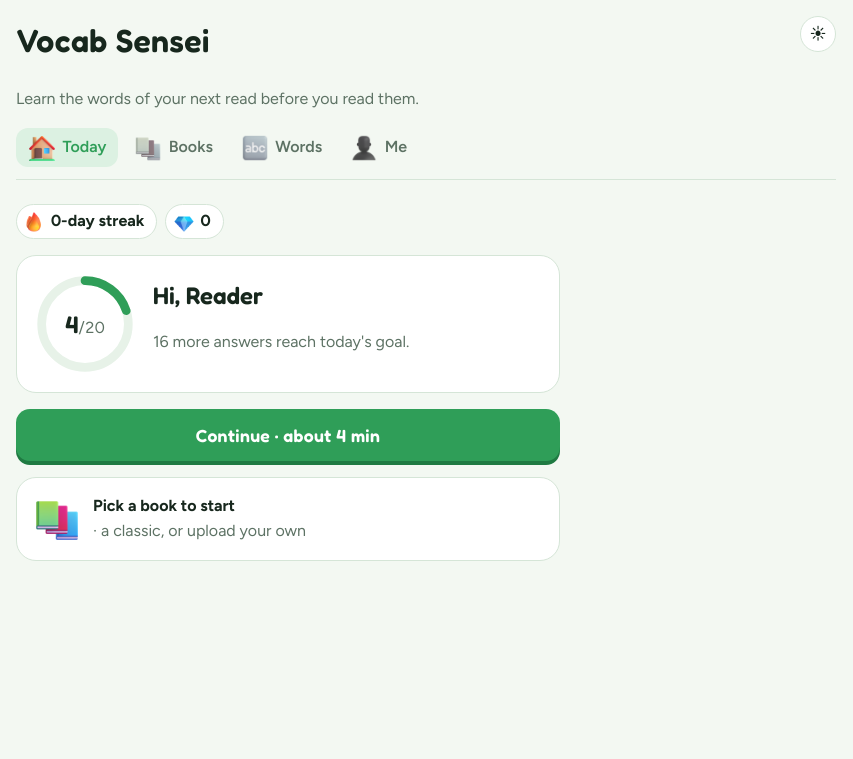
Scenario: daily reminder settings › is reached from the Me tab
Click the link "Me".
click(379, 148)  # box [350,134,407,162]
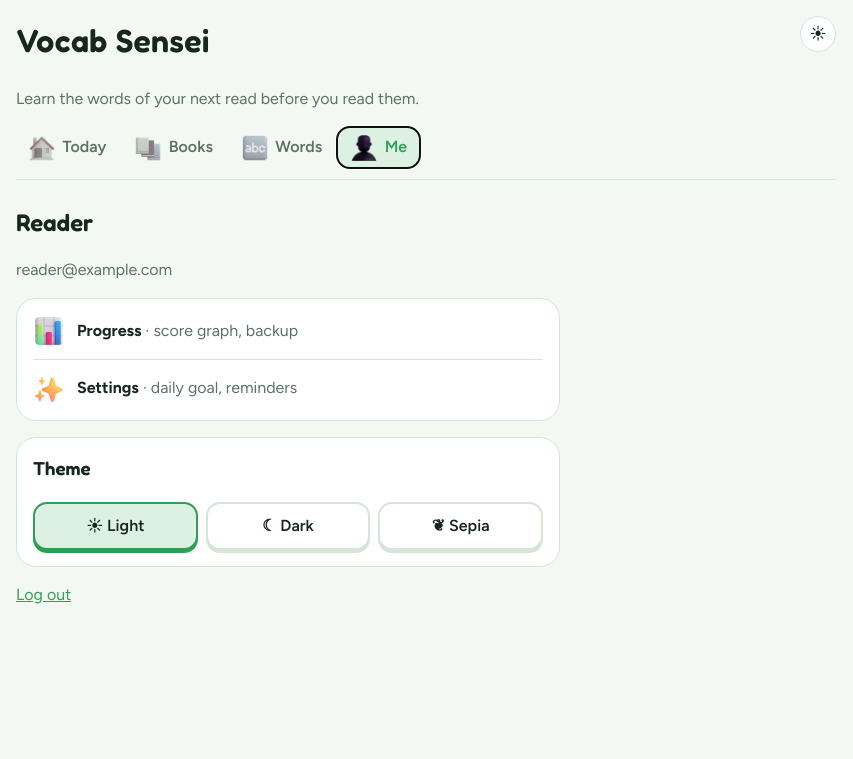
Click the link "Settings · daily goal, reminders".
click(288, 388)  # box [33,359,543,416]
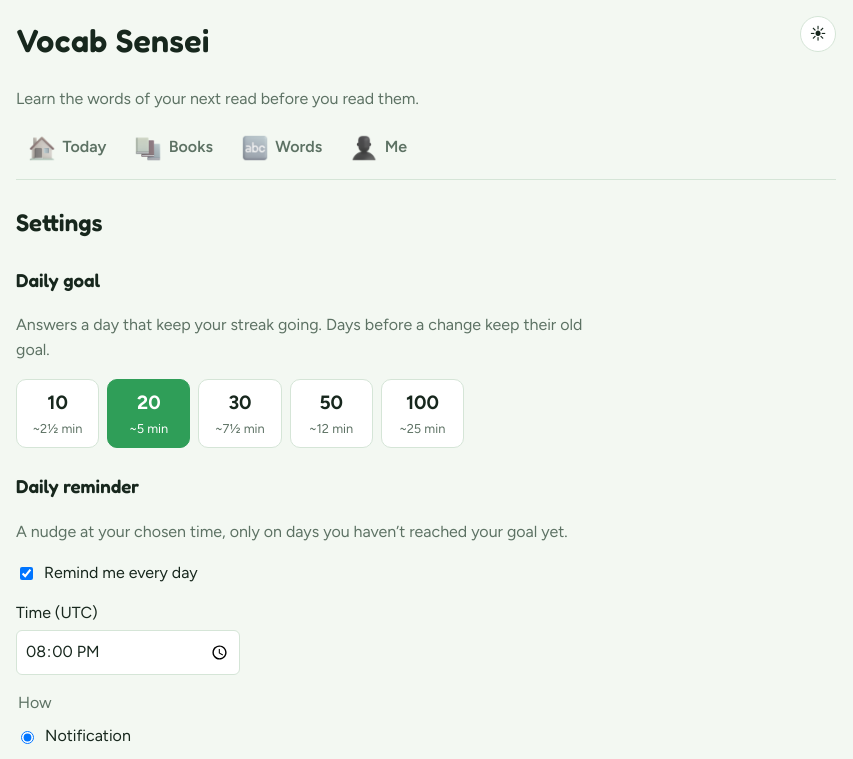
expect the heading "Settings" is shown: met, box [16,208,102,238]
